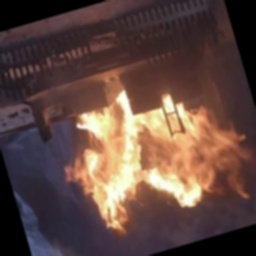fire: (51, 75, 248, 256)
